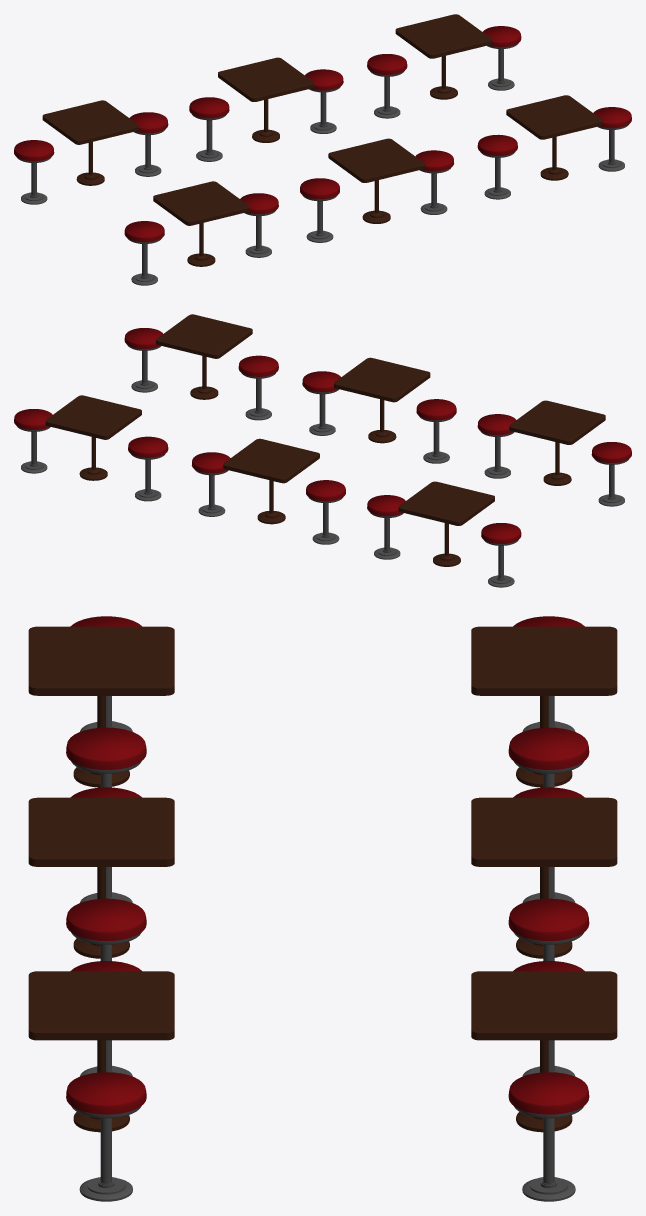
The model's file is tempat makan 2.fbx.
3 views of the same model, one above another, from view 1: azimuth 30°, elevation 25°; view 2: azimuth 150°, elevation 25°; view 3: azimuth 270°, elevation 25° (orthographic). The views are drawn at different scales.
Visible parts, largest first — view 1: Cube.004, Cube.001, Cube.005, Cube, Cube.003, Cube.002, Cylinder.024, Cylinder.030, Cylinder.028, Cylinder, Cylinder.022, Cylinder.026 (+6 smaller); view 2: Cube.001, Cube.005, Cube.004, Cube.002, Cube.003, Cube, Cylinder.026, Cylinder.028, Cylinder, Cylinder.030, Cylinder.022, Cylinder.024 (+6 smaller); view 3: Cube, Cube.004, Cube.002, Cube.005, Cube.001, Cube.003, Cylinder.031, Cylinder.029, Cylinder.027, Cylinder.025, Cylinder.021, Cylinder.023 (+6 smaller).
Part boxes in pixels (box(x1,y1,x2,y2)): Cube.004: box(395, 14, 492, 99); Cube.001: box(153, 181, 249, 266); Cube.005: box(506, 95, 602, 180); Cube: box(42, 100, 138, 185); Cube.003: box(328, 138, 424, 223); Cube.002: box(218, 57, 314, 142); Cylinder.024: box(189, 97, 229, 161); Cylinder.030: box(477, 134, 517, 199); Cylinder.028: box(367, 54, 407, 118); Cylinder: box(14, 140, 54, 204); Cylinder.022: box(124, 221, 164, 285); Cylinder.026: box(300, 178, 339, 242); Cube.001: box(509, 400, 605, 485); Cube.005: box(156, 314, 252, 399); Cube.004: box(45, 395, 141, 480); Cube.002: box(223, 438, 319, 524); Cube.003: box(334, 357, 430, 443); Cube: box(398, 481, 494, 566); Cylinder.026: box(416, 399, 456, 463); Cylinder.028: box(128, 436, 168, 501); Cylinder: box(481, 523, 521, 587); Cylinder.030: box(238, 355, 278, 420); Cylinder.022: box(591, 442, 631, 506); Cylinder.024: box(306, 480, 345, 544); Cube: box(471, 626, 617, 787); Cube.004: box(471, 971, 617, 1132); Cube.002: box(471, 797, 617, 958); Cube.005: box(28, 971, 174, 1132); Cube.001: box(28, 626, 174, 787); Cube.003: box(28, 797, 174, 958); Cylinder.031: box(66, 1072, 146, 1201); Cylinder.029: box(508, 1072, 589, 1201); Cylinder.027: box(66, 898, 146, 960); Cylinder.025: box(508, 898, 589, 960); Cylinder.021: box(508, 727, 589, 787); Cylinder.023: box(66, 727, 146, 787).
Bounding box in the file's own units: 3325 × 417 × 1688.
